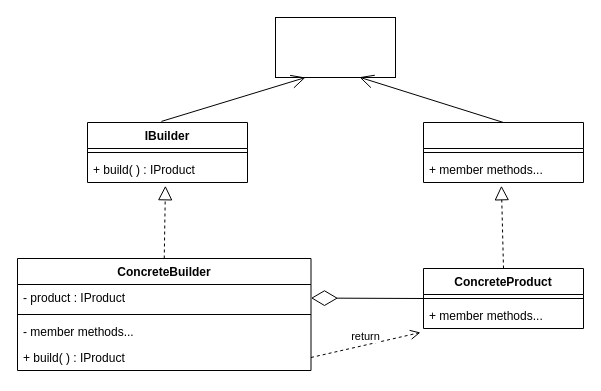
This 601x391 diagram has some shape labels left out. Here are the shapes that lost their labels. From the top down, the box of each, then its label:
(274, 16, 396, 78): client
(422, 122, 584, 182): IProduct
